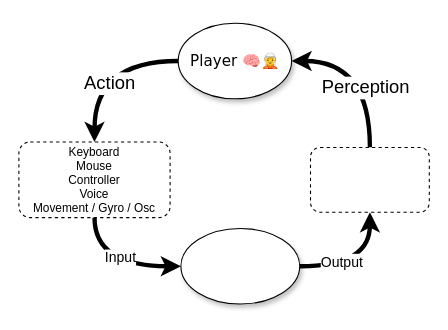
Image size: 448x330. Some labels were removed from this diagram. The shapes that lost their labels are listed below. From the top down, each one's centre as x and y in pixels, then its label:
(x=369, y=179): Video Audio Haptic IoT
(x=241, y=267): Computer 🧠🤖
